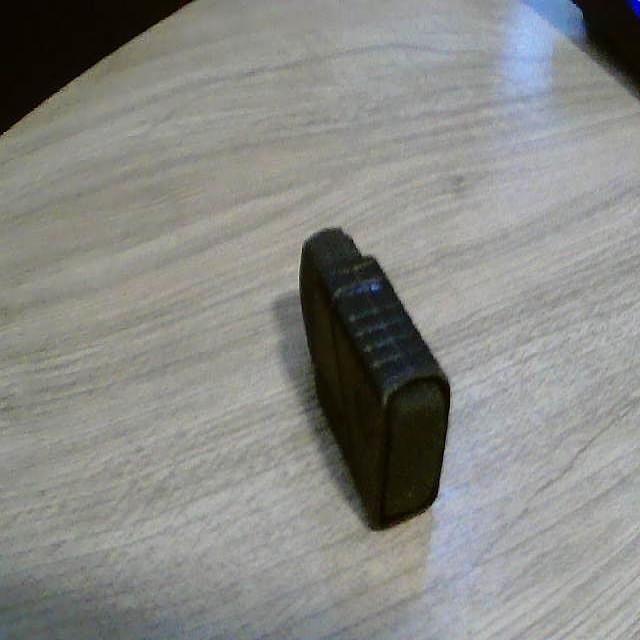borracha: (265, 222, 467, 542)
